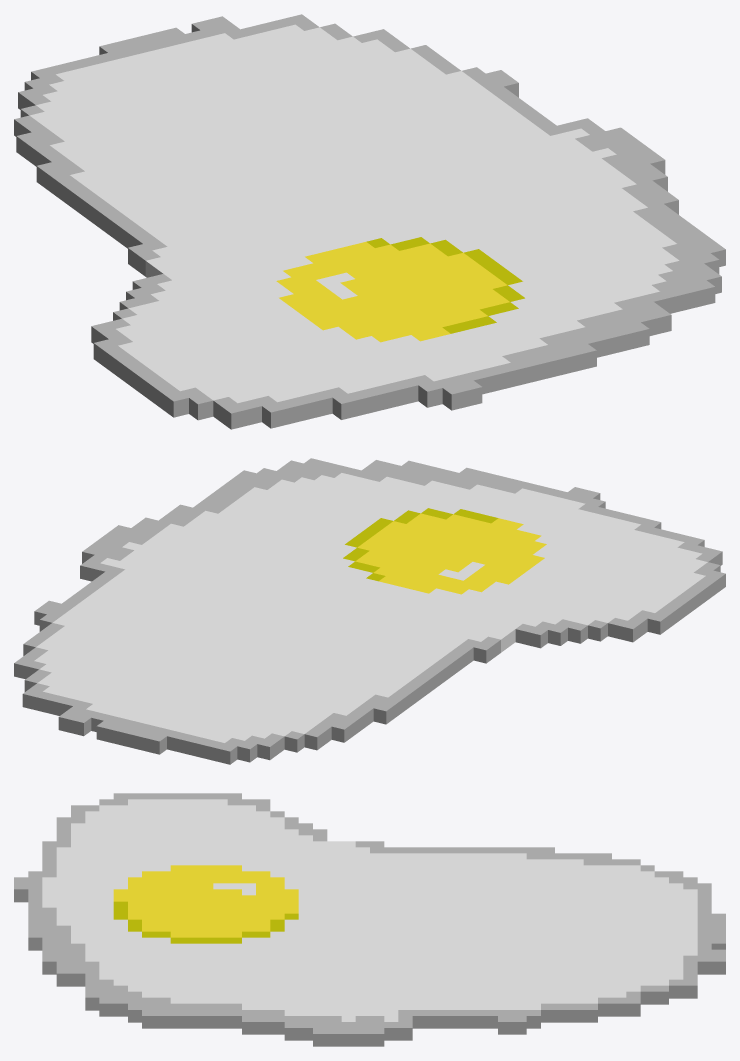
File: egg.obj
3 views of the same model, one above another, from view 1: azimuth 30°, elevation 25°; view 2: azimuth 150°, elevation 25°; view 3: azimuth 270°, elevation 25° (orthographic). The views are drawn at different scales.
Parts seen in each view (by area): view 1: egg; view 2: egg; view 3: egg.
Boxes of the visible parts, left/top/right/bottom form: egg: left=14, top=14, right=725, bottom=429; egg: left=14, top=458, right=725, bottom=764; egg: left=14, top=793, right=725, bottom=1046.
Bounding box in the file's own units: 40 × 1 × 50.
Materials: 1 (1 with a texture image).
